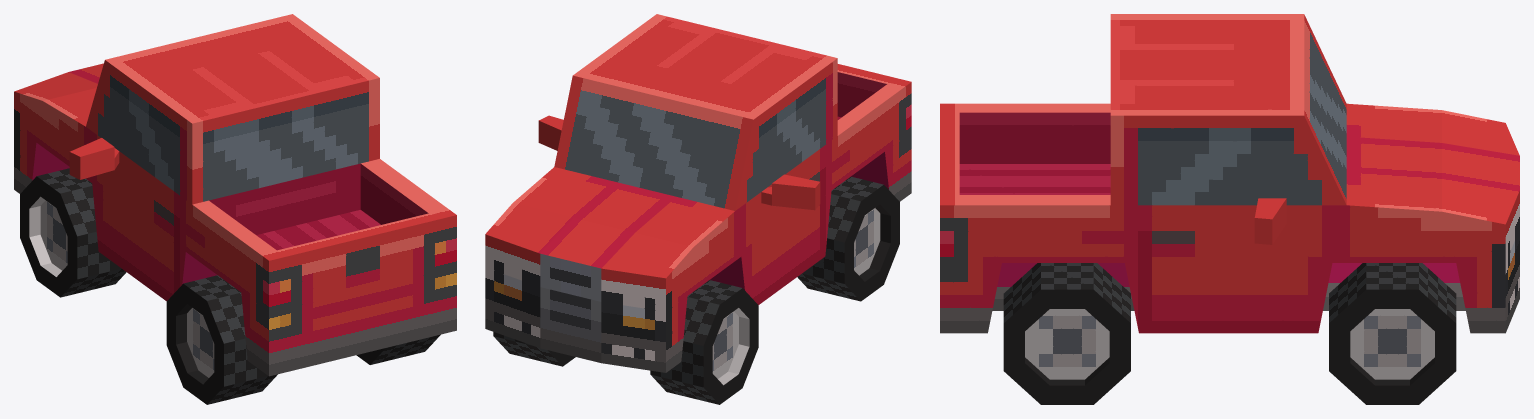
File: Truck.gltf
3 views of the same model, side by side, from view 1: azimuth 30°, elevation 25°; view 2: azimuth 150°, elevation 25°; view 3: azimuth 270°, elevation 25° (orthographic). The views are drawn at different scales.
Visible parts, largest first — view 1: body, cylinder (×3), mirror_left; view 2: body, cylinder (×3), mirror_left, mirror_right; view 3: body, cylinder (×2), mirror_right.
Part boxes in pixels (x1=…): body: x1=14, y1=14, x2=456, y2=376; cylinder (×3): x1=20, y1=168, x2=440, y2=404; mirror_left: x1=69, y1=138, x2=119, y2=179; body: x1=485, y1=14, x2=911, y2=372; cylinder (×3): x1=493, y1=176, x2=899, y2=404; mirror_left: x1=761, y1=174, x2=820, y2=210; mirror_right: x1=538, y1=115, x2=563, y2=150; body: x1=940, y1=14, x2=1519, y2=333; cylinder (×2): x1=1003, y1=263, x2=1456, y2=404; mirror_right: x1=1254, y1=198, x2=1286, y2=244.
Bounding box in the file's own units: 1.62 × 1.37 × 2.56.
1 material, 1 textured.
